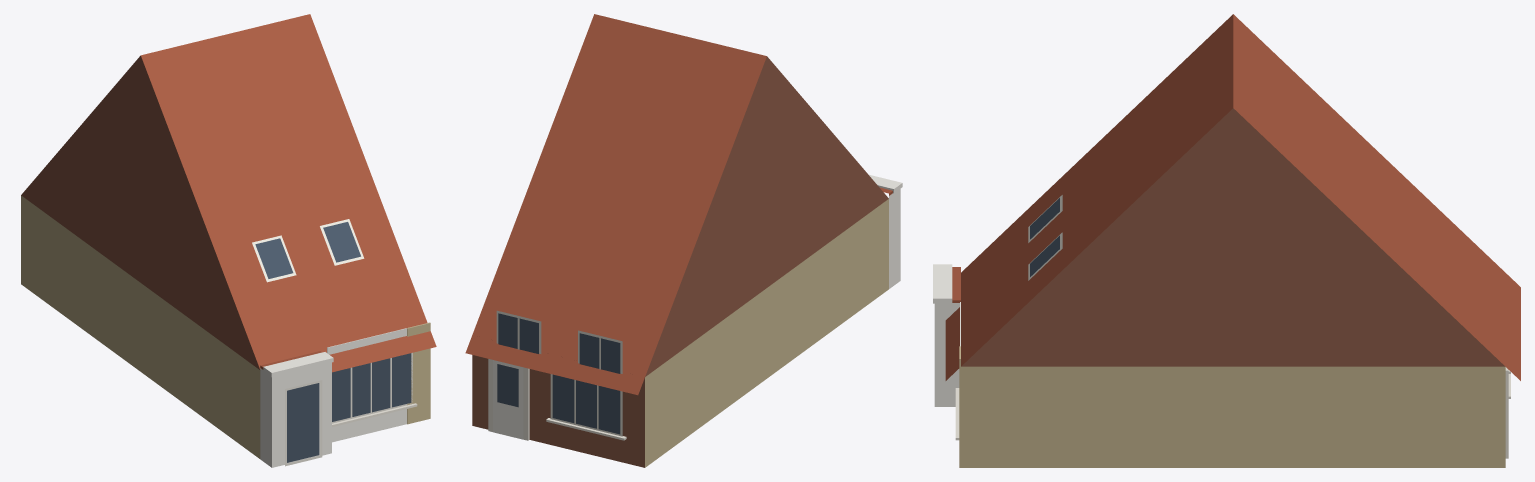
The model's file is zo-g4-roof-house__orange__2__gable__long__solid.glb.
3 renders of one model, left to right at view 1: azimuth 30°, elevation 25°; view 2: azimuth 150°, elevation 25°; view 3: azimuth 270°, elevation 25°, orthographic. The views are drawn at different scales.
Visible parts, largest first — view 1: zo-g4-roof-house__orange__2__gable__long__solid; view 2: zo-g4-roof-house__orange__2__gable__long__solid; view 3: zo-g4-roof-house__orange__2__gable__long__solid.
Part boxes in pixels (x1=…): zo-g4-roof-house__orange__2__gable__long__solid: x1=21, y1=14, x2=436, y2=467; zo-g4-roof-house__orange__2__gable__long__solid: x1=465, y1=14, x2=902, y2=467; zo-g4-roof-house__orange__2__gable__long__solid: x1=933, y1=14, x2=1520, y2=467.
Size of the model in its own units: 5.12 by 9.09 by 13.5.
